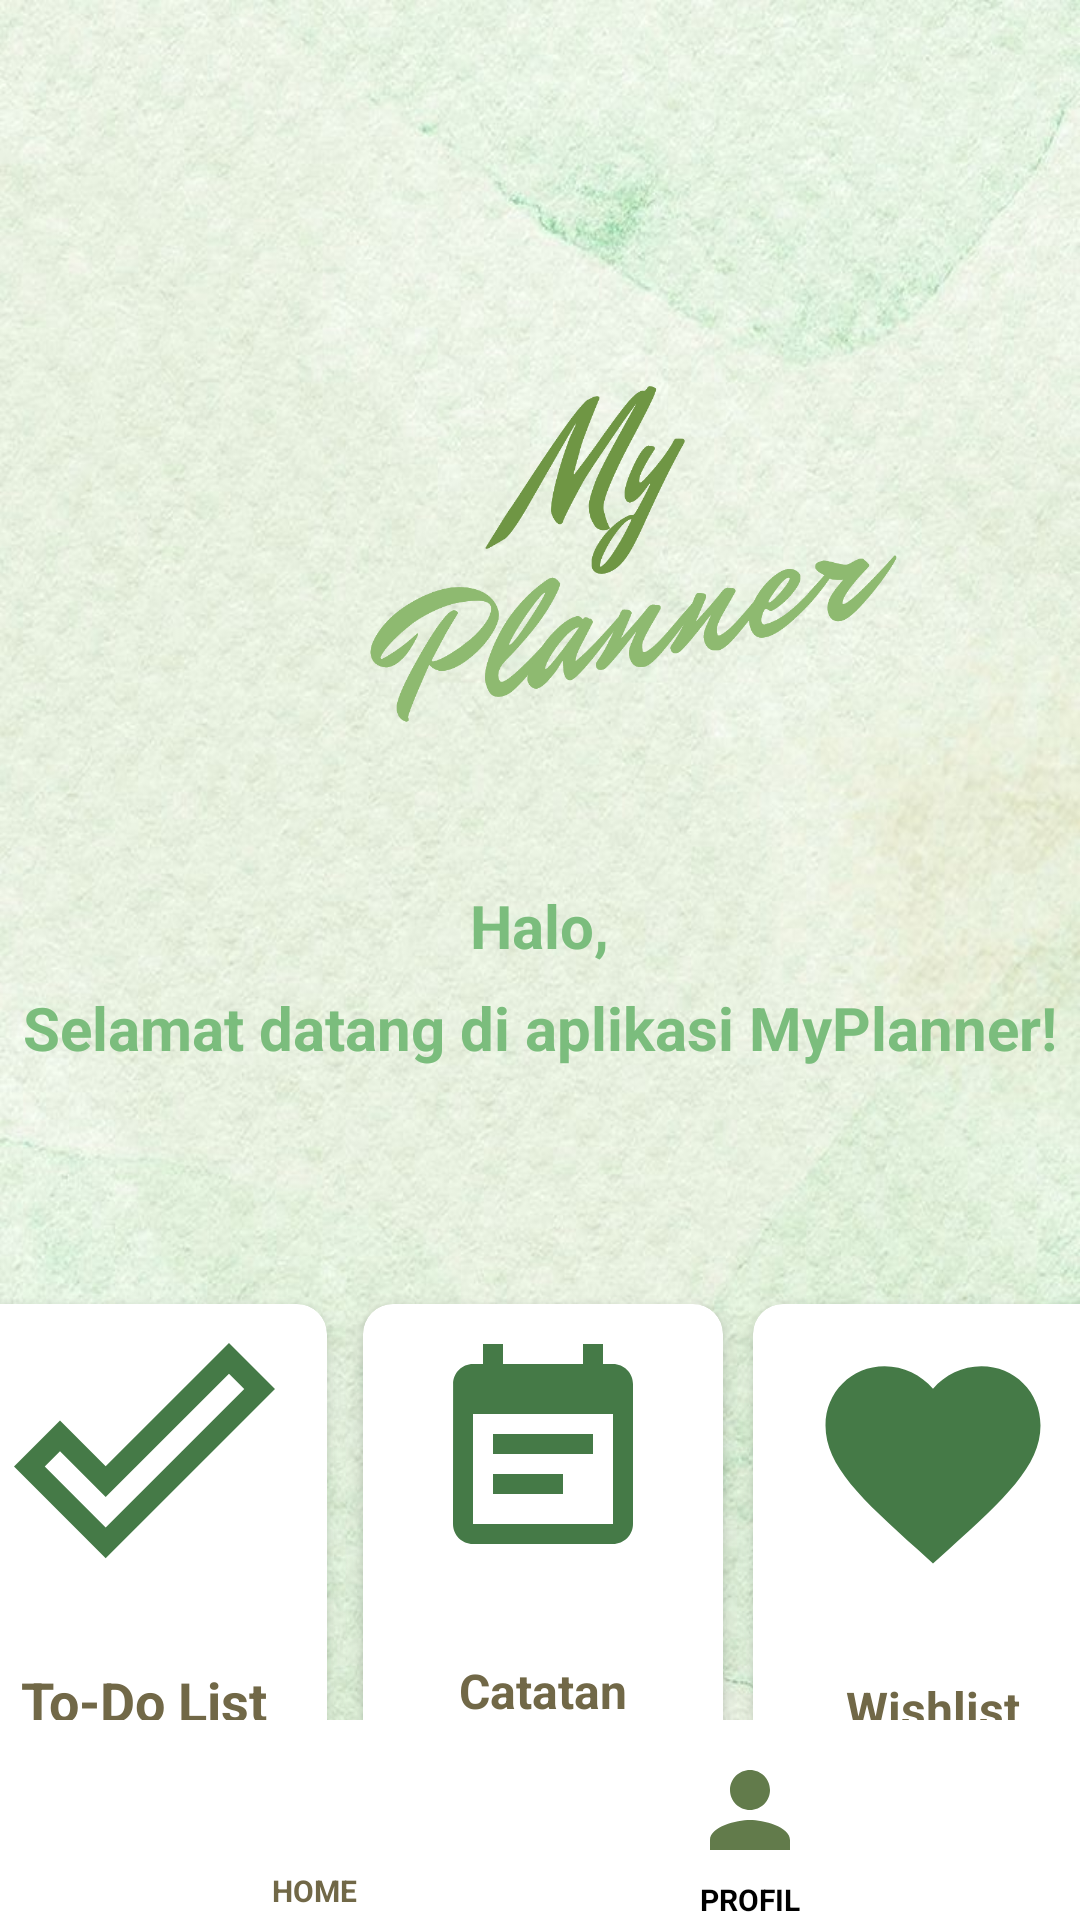

Icons on this 1080px×1920px Android screen, each with the point to tap as (x=x, y=y):
done: (x=144, y=1450)
event note: (x=543, y=1444)
favorite: (x=933, y=1465)
person: (x=750, y=1810)
